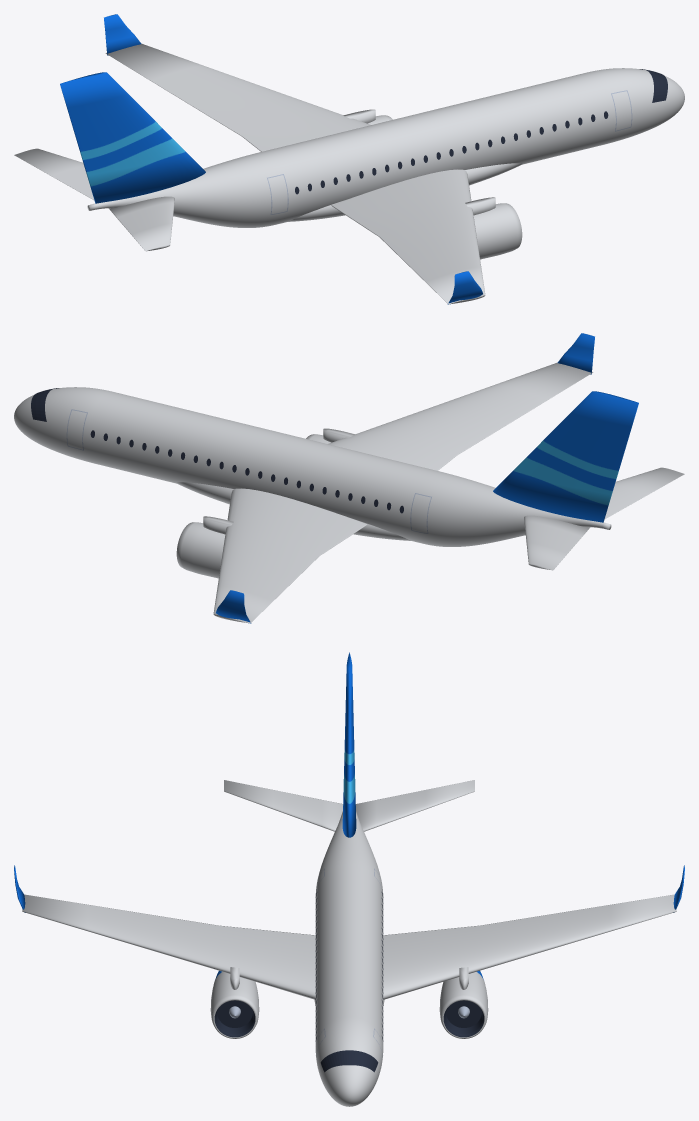
File: pesawat_biru.glb
3 views of the same model, one above another, from view 1: azimuth 30°, elevation 25°; view 2: azimuth 150°, elevation 25°; view 3: azimuth 270°, elevation 25° (orthographic). The views are drawn at different scales.
Parts seen in each view (by area): view 1: Badan, Sayap, Ekor_Vertikal, Stabilizer_Horizontal, Mesin_Kanan, Winglet, Fairing, Jendela; view 2: Badan, Sayap, Ekor_Vertikal, Stabilizer_Horizontal, Mesin_Kiri, Winglet, Fairing, Jendela; view 3: Sayap, Badan, Stabilizer_Horizontal, Mesin_Kanan, Mesin_Kiri, Ekor_Vertikal, Kaca_Kokpit.
Boxes of the visible parts, x1,y1,x2,y2 form: Badan: (87,68,684,227); Sayap: (105,44,485,304); Ekor_Vertikal: (60,72,205,203); Stabilizer_Horizontal: (14,148,174,251); Mesin_Kanan: (473,203,522,259); Winglet: (104,14,482,304); Fairing: (288,163,522,221); Jendela: (295,111,608,194); Badan: (14,387,611,546); Sayap: (213,363,593,623); Ekor_Vertikal: (493,391,638,522); Stabilizer_Horizontal: (524,467,684,570); Mesin_Kiri: (176,522,225,578); Winglet: (216,333,594,623); Fairing: (176,482,410,540); Jendela: (90,430,403,513); Sayap: (22,894,676,999); Badan: (315,811,383,1106); Stabilizer_Horizontal: (224,780,474,831); Mesin_Kanan: (210,971,259,1038); Mesin_Kiri: (439,971,488,1038); Ekor_Vertikal: (342,652,356,837); Kaca_Kokpit: (320,1050,378,1072).
Size of the model in its own units: 12.59 by 4.18 by 12.31.
Materials: 6 (1 with a texture image).
